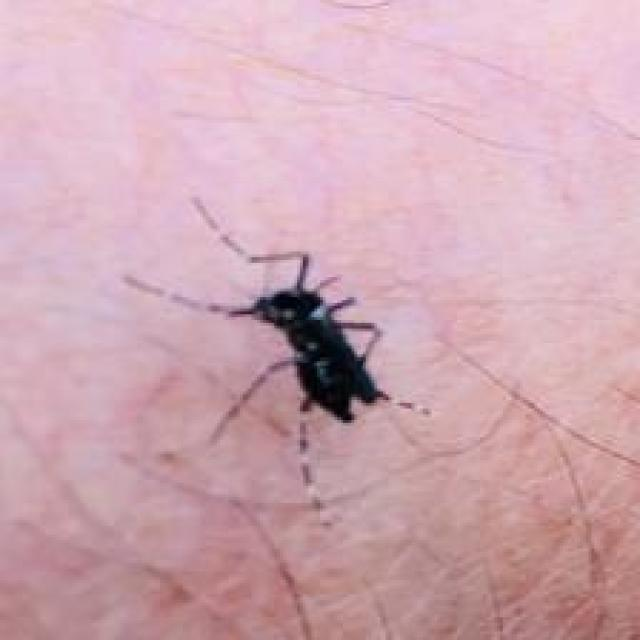Aedes albopictus: (121, 196, 433, 513)
